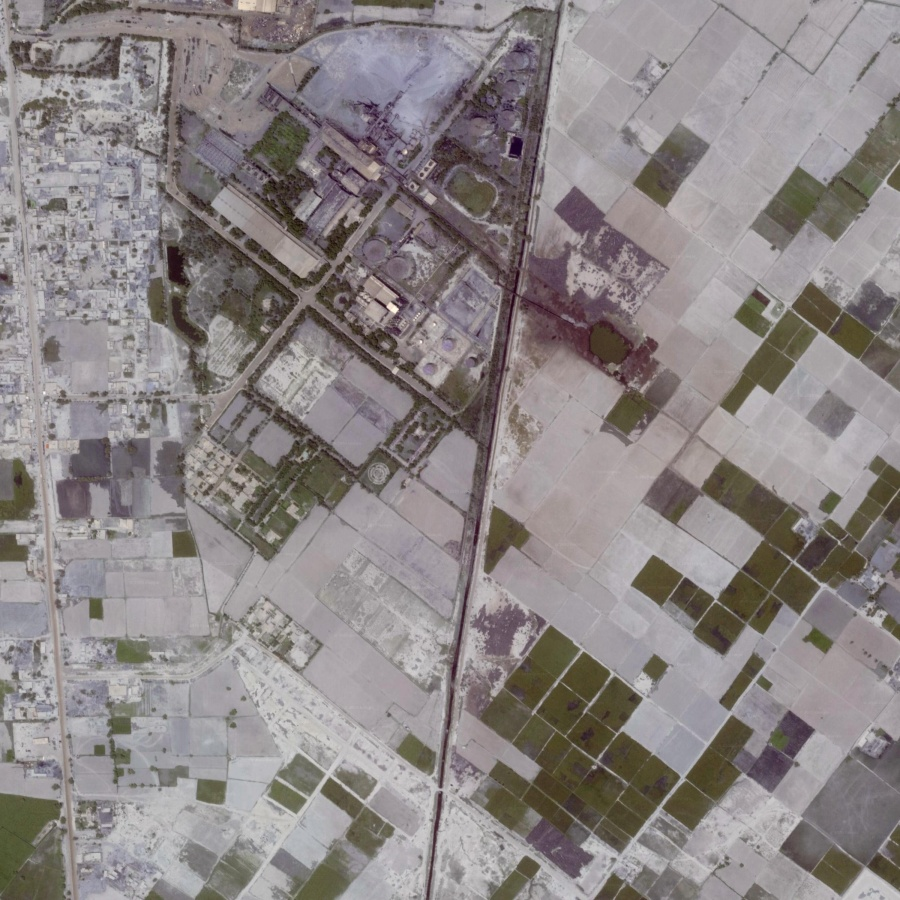PowerPlant: (309, 166, 499, 384)
